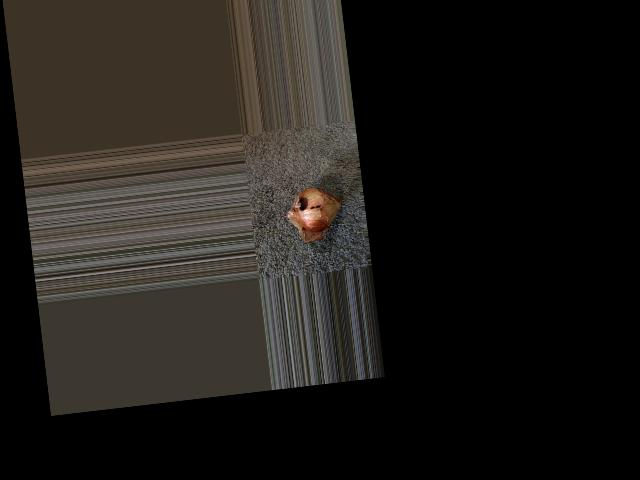onion: (290, 183, 342, 234)
